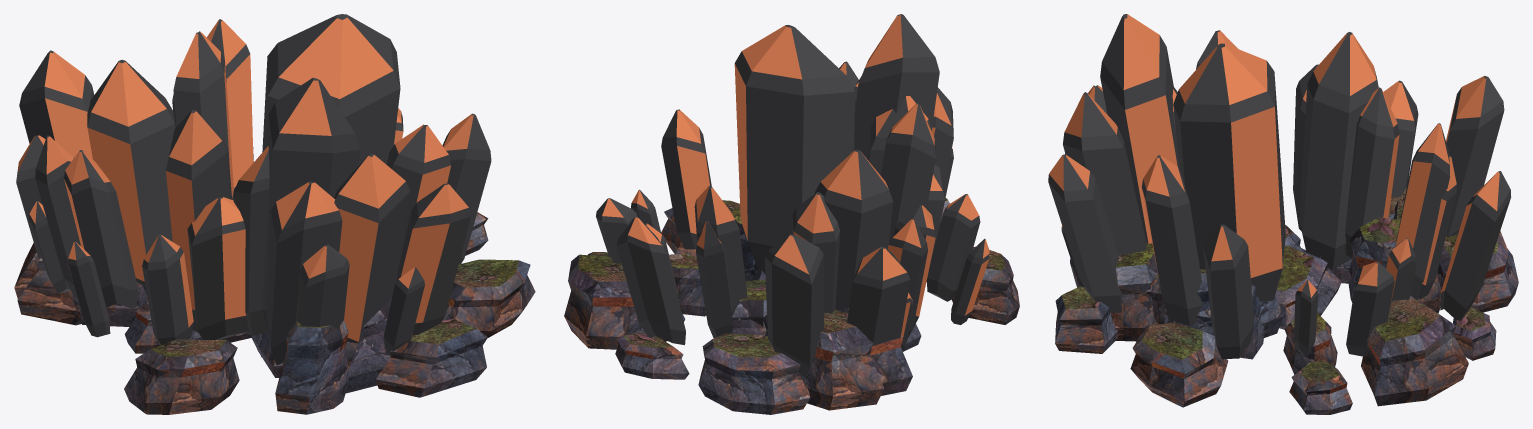
The model's file is cobalt_iron.glb.
3 renders of one model, left to right at view 1: azimuth 30°, elevation 25°; view 2: azimuth 150°, elevation 25°; view 3: azimuth 270°, elevation 25°, orthographic. The views are drawn at different scales.
Parts seen in each view (by area): view 1: cobalt_iron; view 2: cobalt_iron; view 3: cobalt_iron.
Part boxes in pixels (box(x1,y1,x2,y2)): cobalt_iron: box(14, 14, 535, 414); cobalt_iron: box(564, 14, 1019, 414); cobalt_iron: box(1048, 14, 1518, 414).
Bounding box in the file's own units: 1.82 × 1.24 × 1.81.
6 materials, 3 textured.
